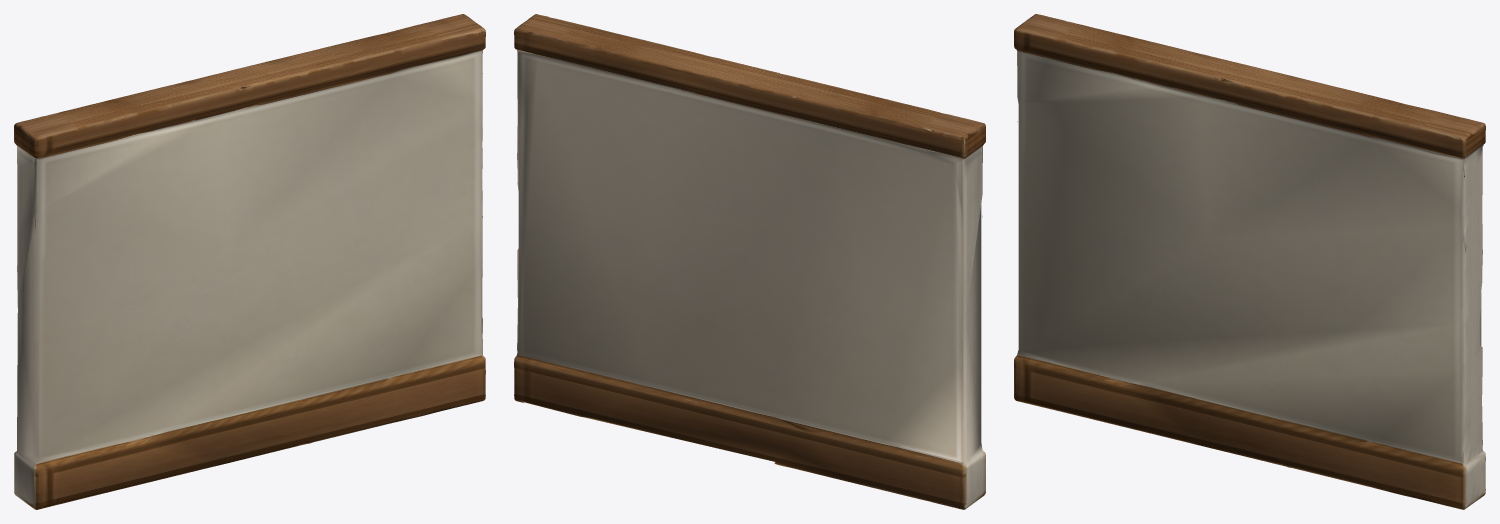
File: Meshy_AI_Beige_Panel_with_Wood_0610044747_texture.fbx
The picture shows the model from 3 angles, left to right: view 1: azimuth 30°, elevation 25°; view 2: azimuth 150°, elevation 25°; view 3: azimuth 330°, elevation 25°; orthographic projection.
Parts seen in each view (by area): view 1: Mesh_0; view 2: Mesh_0; view 3: Mesh_0.
Boxes of the visible parts, <box> form: Mesh_0: <box>14,14,485,509</box>; Mesh_0: <box>514,14,985,509</box>; Mesh_0: <box>1014,14,1485,509</box>.
Size of the model in its own units: 191 by 151 by 16.66.
1 material, 1 textured.
